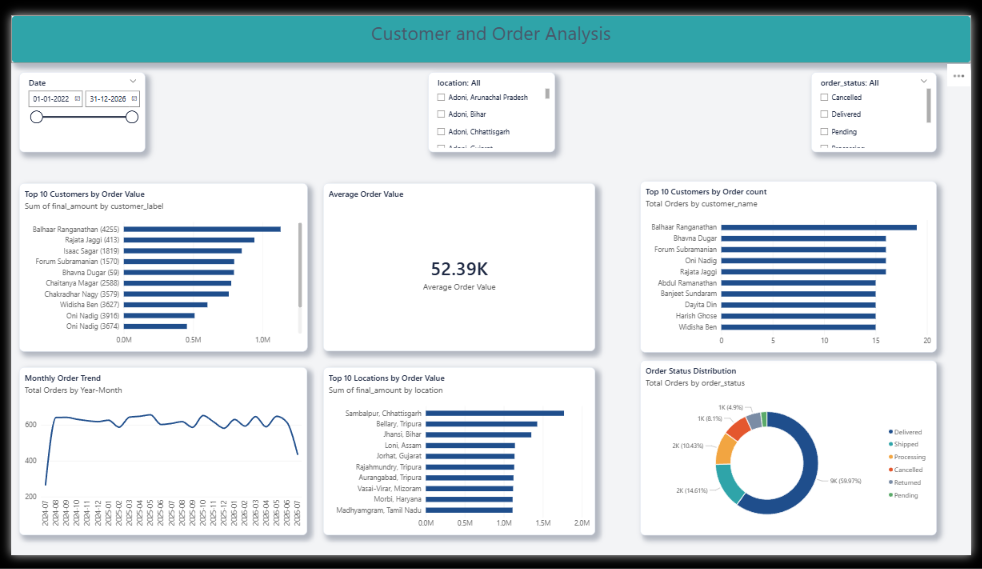

What the dashboard file says about the page in this screenshot:
{"tool":"powerbi","page":{"name":" Customer and Order Analysis","canvas":[1920,1080],"ordinal":1},"visuals":[{"type":"textbox","box":[0,0,1920,96],"z":0},{"type":"slicer","fields":{"Values":["DimDate.Date"]},"box":[16,114,252,160],"z":1000},{"type":"slicer","fields":{"Values":["DimCustomer.location"]},"box":[833.3,113.3,253.3,160],"z":2000},{"type":"slicer","fields":{"Values":["FactOrders.order_status"]},"box":[1600,113.3,250,160],"z":3000},{"type":"clusteredBarChart","title":"Top 10 Customers by Order Value","fields":{"Category":["DimCustomer.customer_label"],"Y":["Sum(FactOrders.final_amount)"]},"box":[16.7,336.7,576.7,336.7],"z":4000},{"type":"lineChart","title":"Monthly Order Trend","fields":{"Category":["DimDate.Year-Month"],"Y":["DimDate.Total Orders"]},"box":[16,704,576,336],"z":5000},{"type":"donutChart","title":"Order Status Distribution","fields":{"Category":["FactOrders.order_status"],"Y":["DimDate.Total Orders"]},"box":[1257.5,690,592.5,350],"z":6000},{"type":"card","title":"Average Order Value","fields":{"Values":["DimDate.Average Order Value"]},"box":[624,336,544,336],"z":7000},{"type":"clusteredBarChart","title":"Top 10 Locations by Order Value","fields":{"Category":["DimCustomer.location"],"Y":["Sum(FactOrders.final_amount)"]},"box":[624,704,544,336],"z":8000},{"type":"clusteredBarChart","title":"Top 10 Customers by Order count","fields":{"Category":["DimCustomer.customer_name"],"Y":["DimDate.Total Orders"]},"box":[1257.5,332.5,592.5,342.5],"z":9000}]}

Visuals, with their boxes in screenshot pixels (x1, y1, x2, y2), scaled from the page's 1920x1080 canvas onto the 982x569 screenshot:
textbox: 0,0,981,51
slicer - DimDate.Date: 8,60,137,144
slicer - DimCustomer.location: 426,60,556,144
slicer - FactOrders.order_status: 818,60,946,144
"Top 10 Customers by Order Value" clusteredBarChart: 9,177,303,355
"Monthly Order Trend" lineChart: 8,371,303,548
"Order Status Distribution" donutChart: 643,364,946,548
"Average Order Value" card: 319,177,597,354
"Top 10 Locations by Order Value" clusteredBarChart: 319,371,597,548
"Top 10 Customers by Order count" clusteredBarChart: 643,175,946,356
